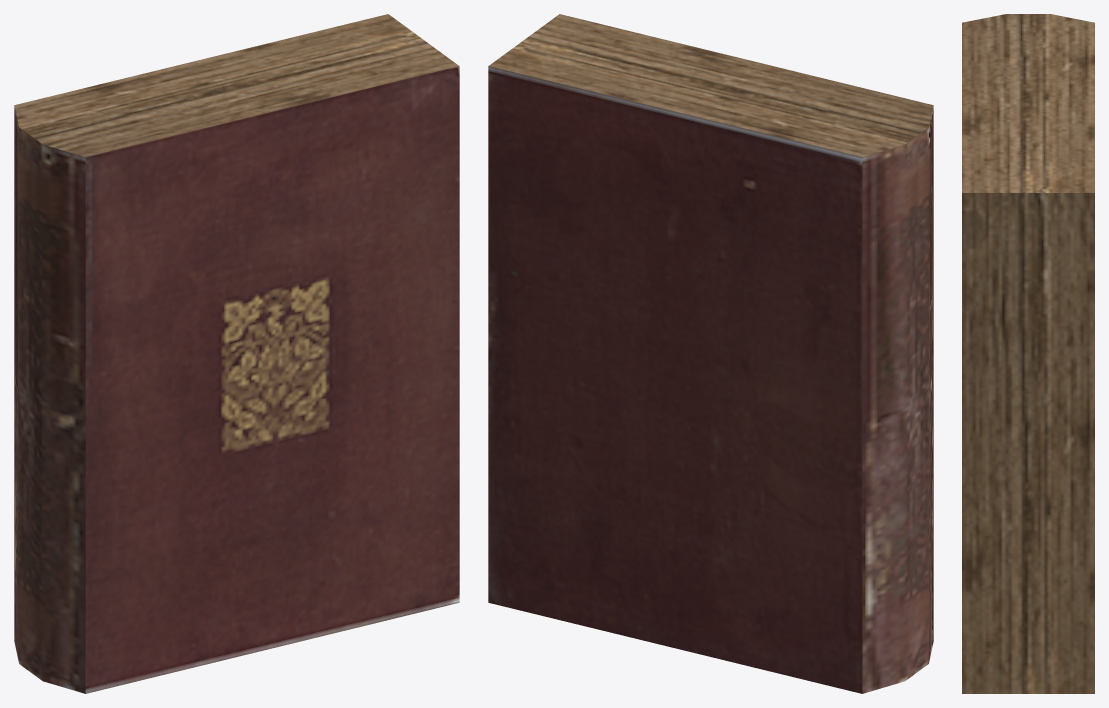
The model's file is book.fbx.
The picture shows the model from 3 angles, left to right: view 1: azimuth 30°, elevation 25°; view 2: azimuth 150°, elevation 25°; view 3: azimuth 270°, elevation 25°; orthographic projection. The views are drawn at different scales.
Parts seen in each view (by area): view 1: book; view 2: book; view 3: book.
Boxes of the visible parts, x1=… form: book: x1=14, y1=14, x2=459, y2=693; book: x1=488, y1=14, x2=933, y2=693; book: x1=962, y1=14, x2=1094, y2=693.
Size of the model in its own units: 0.294 by 0.3837 by 0.0922.
